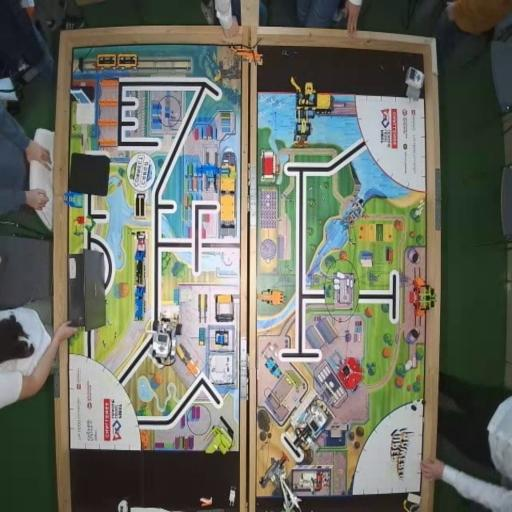lego_robot: (286, 394, 334, 459), (149, 313, 183, 369)
